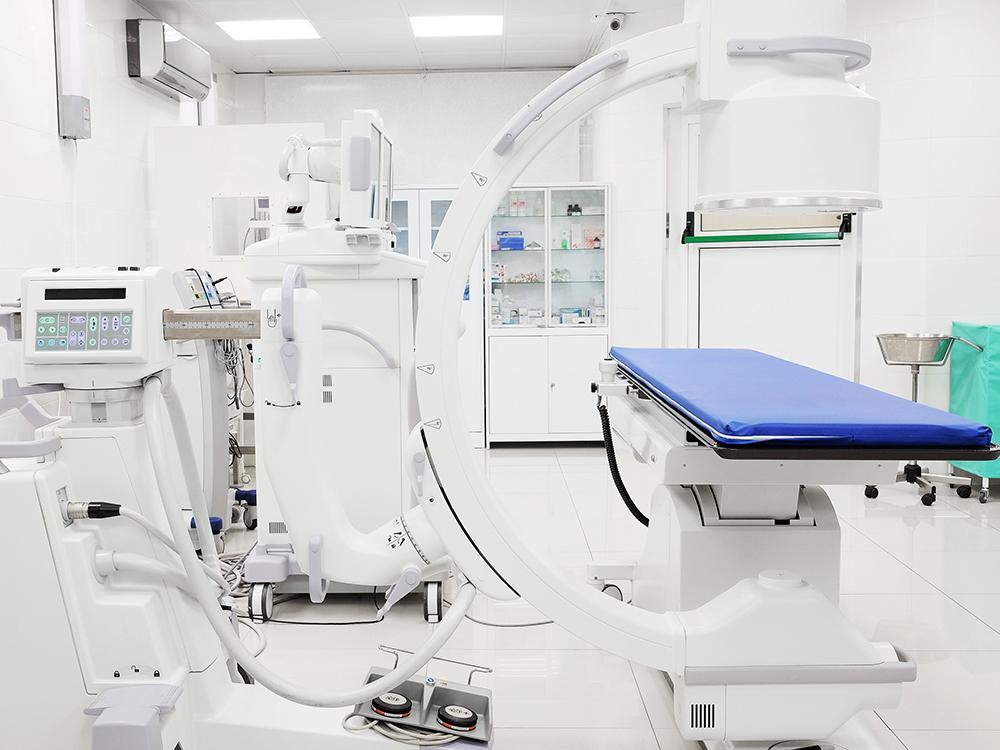Bed: (590, 339, 994, 600)
C_arm: (260, 6, 998, 746)
